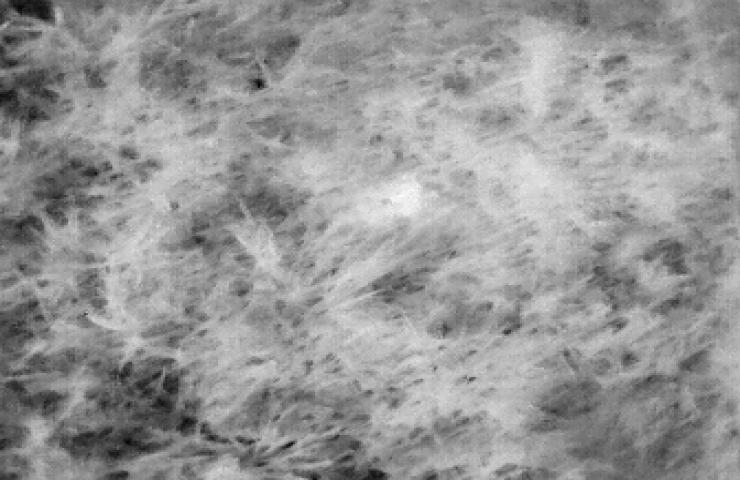landmines: (345, 164, 433, 239)
